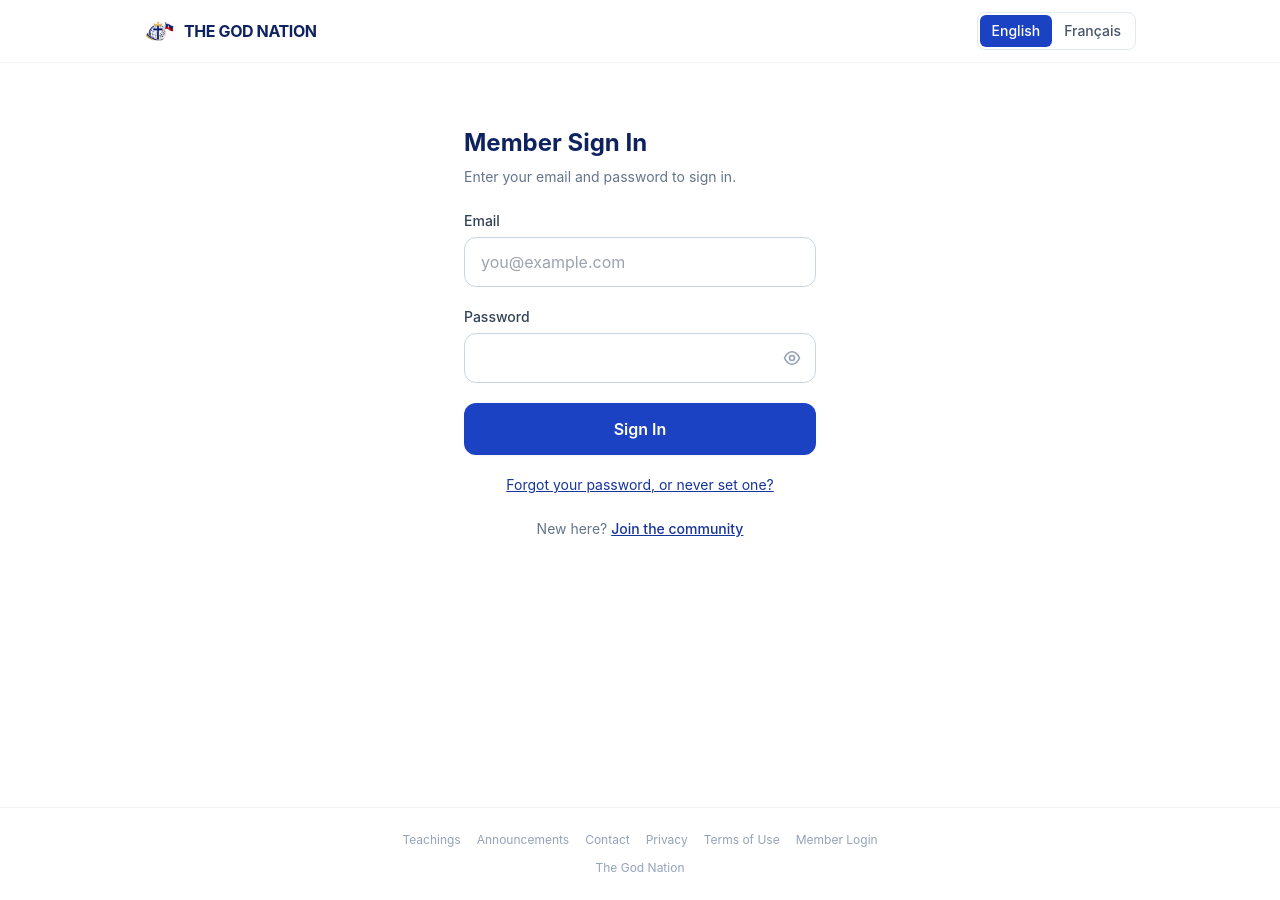
Scenario: Sign in with email and password › explains a wrong code on the forgot-password screen
Click the button "Forgot your password, or never set one?" at (640, 485), box [464, 475, 816, 495]
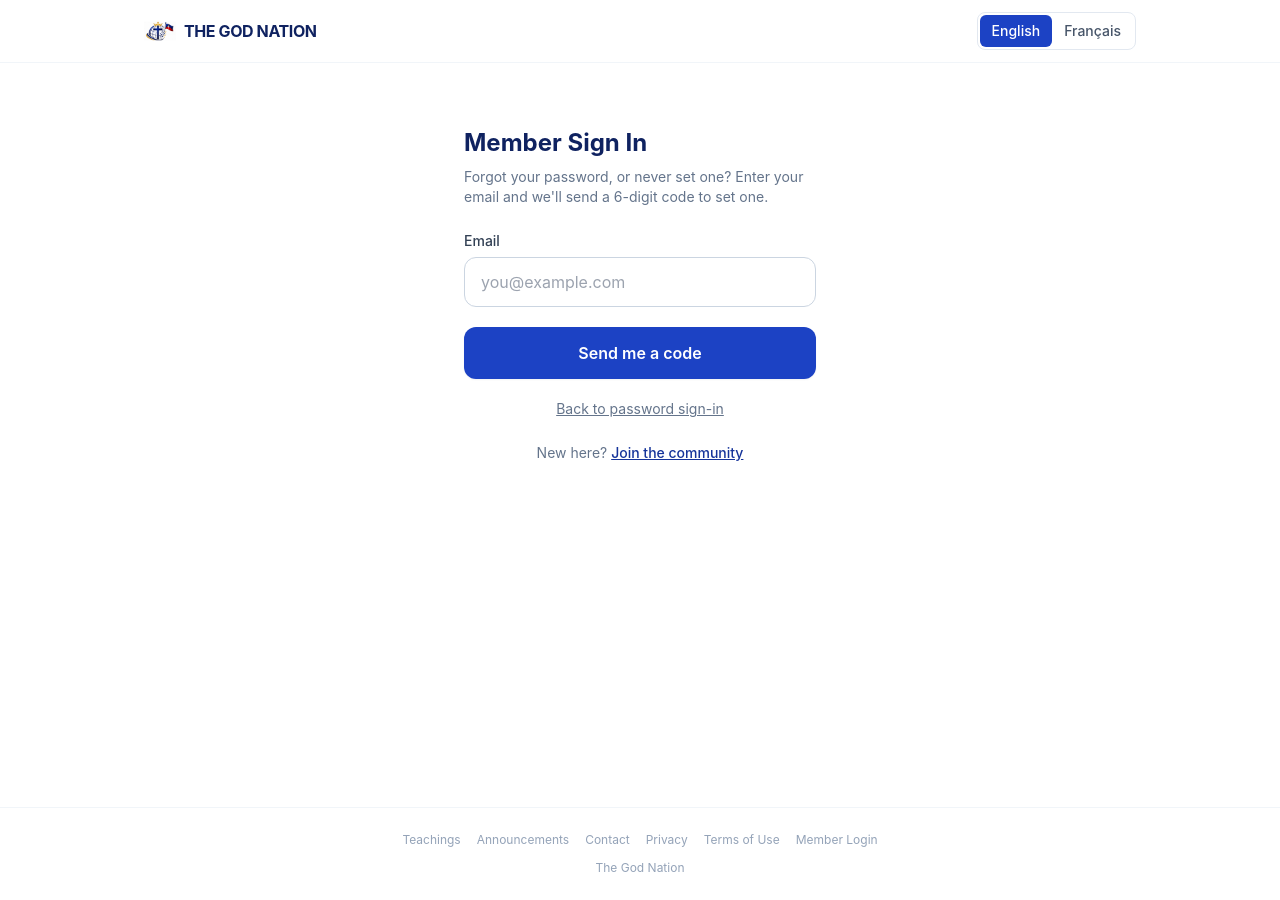
Type "ada@example.com" into the field labelled "Email" at (640, 282), box [464, 257, 816, 307]
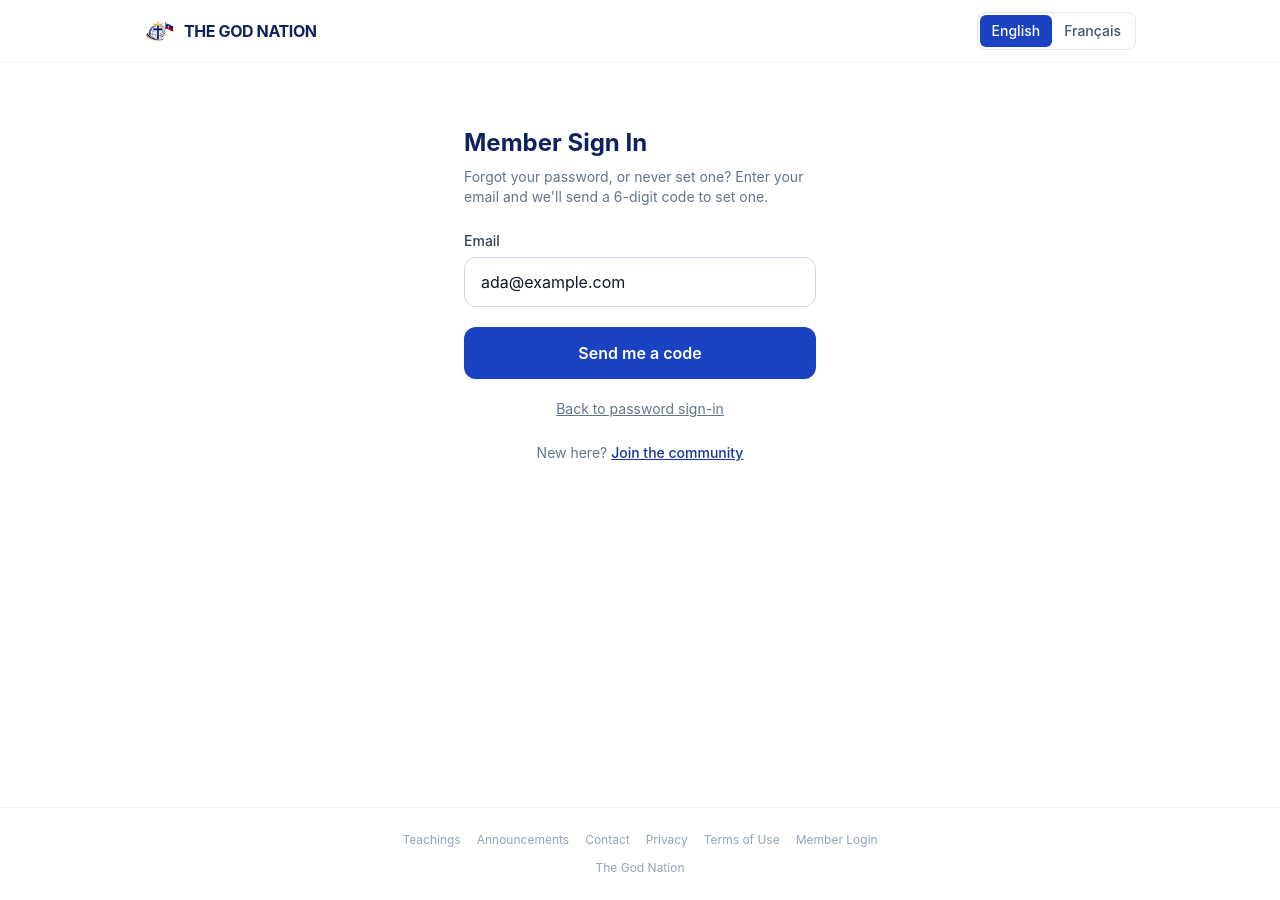
Click the button "Send me a code" at (640, 353), box [464, 327, 816, 379]
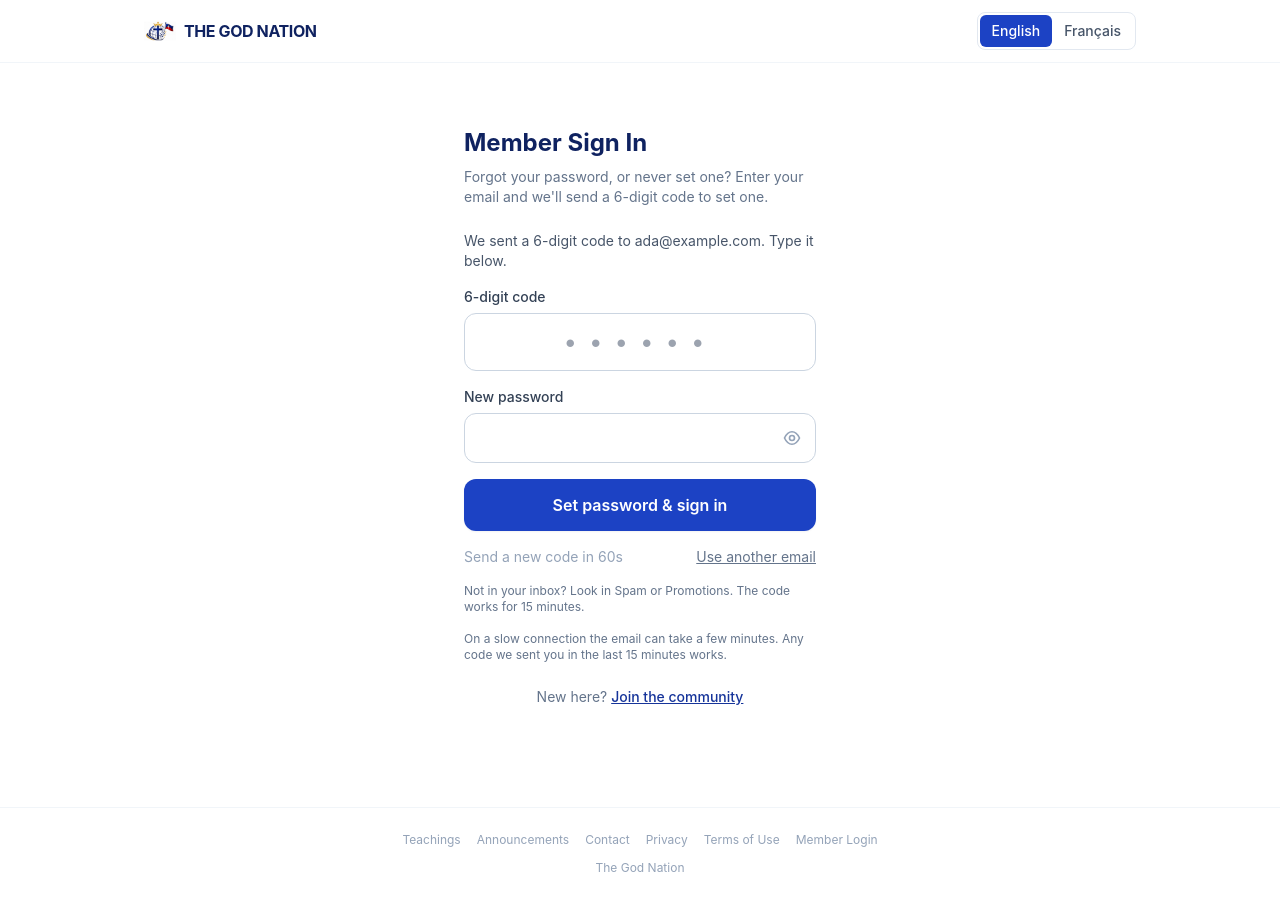
Type "000000" into the field labelled "6-digit code" at (640, 342), box [464, 313, 816, 371]
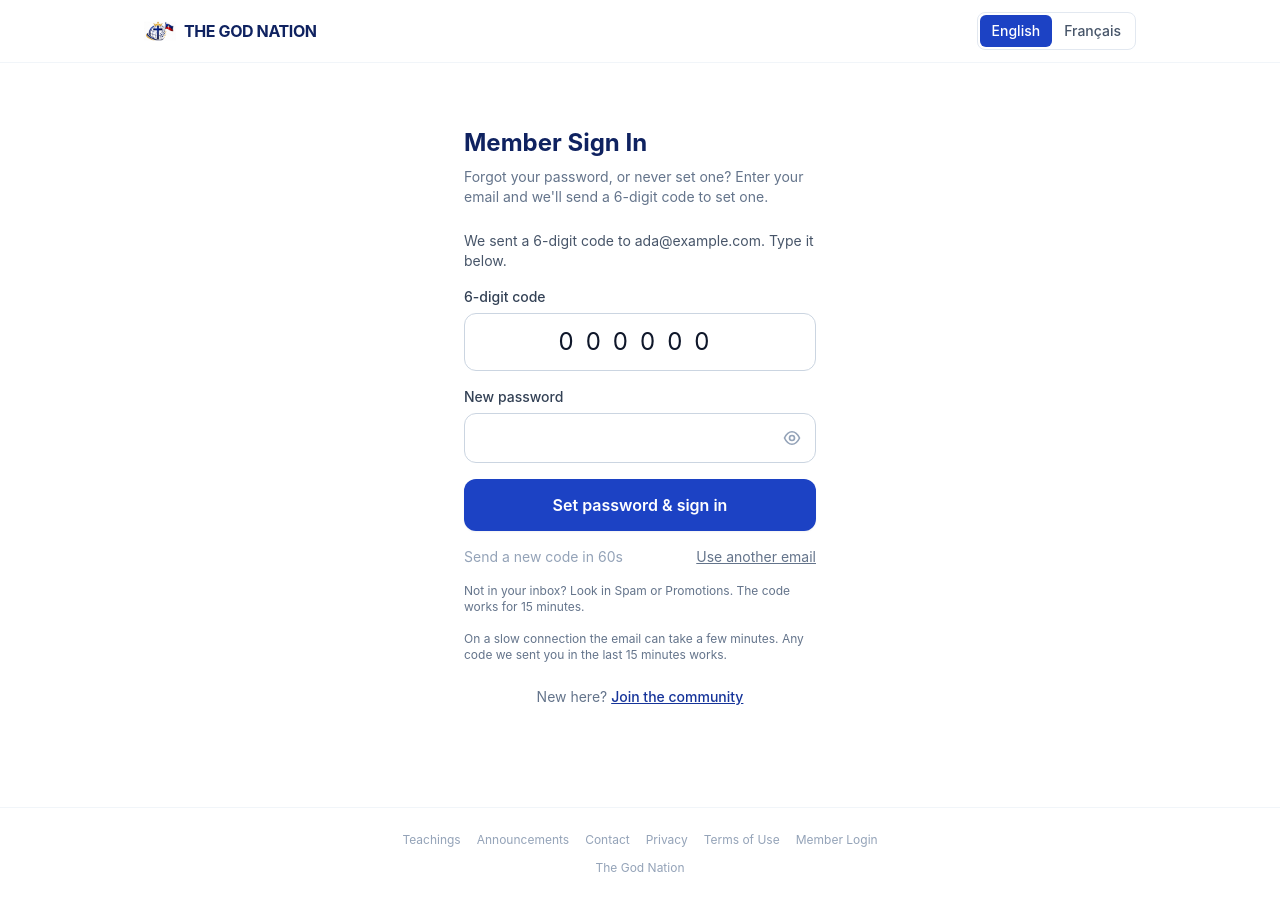
Type "Newpass123" into the password field labelled "New password" at (640, 438), box [464, 413, 816, 463]
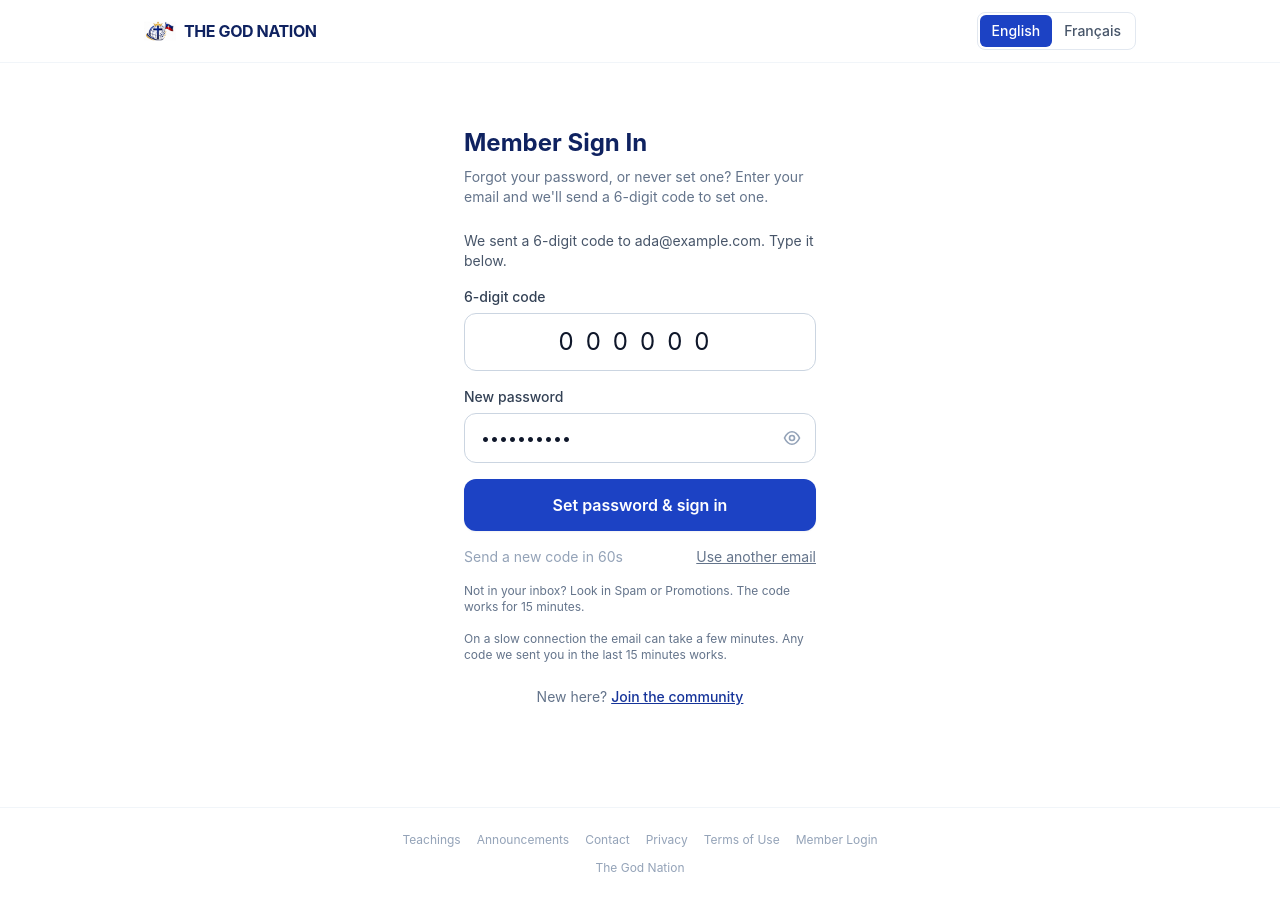
Click the button "Set password & sign in" at (640, 505), box [464, 479, 816, 531]
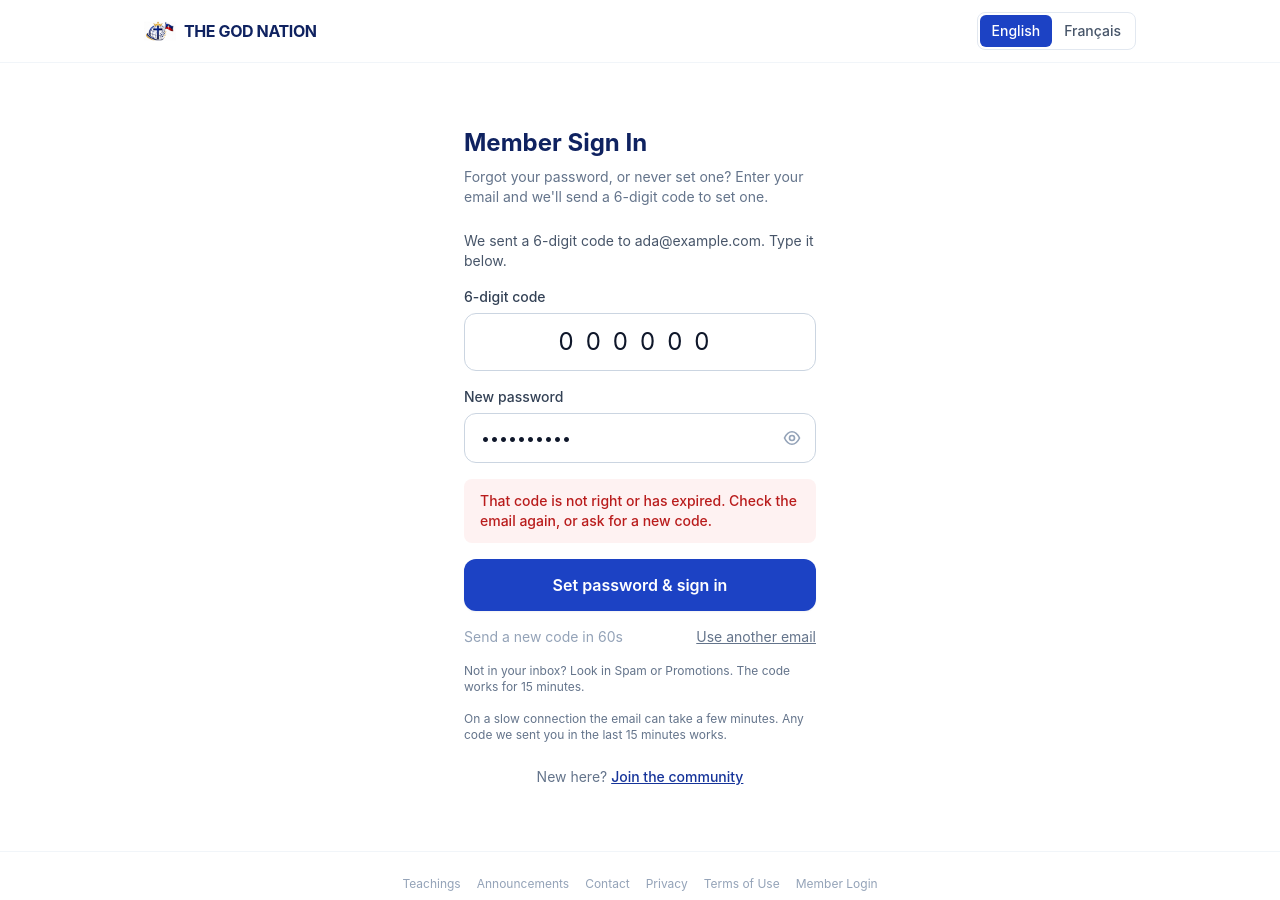
Expected: the message shows "That code is not right or has expired.", [480, 492, 797, 529]
